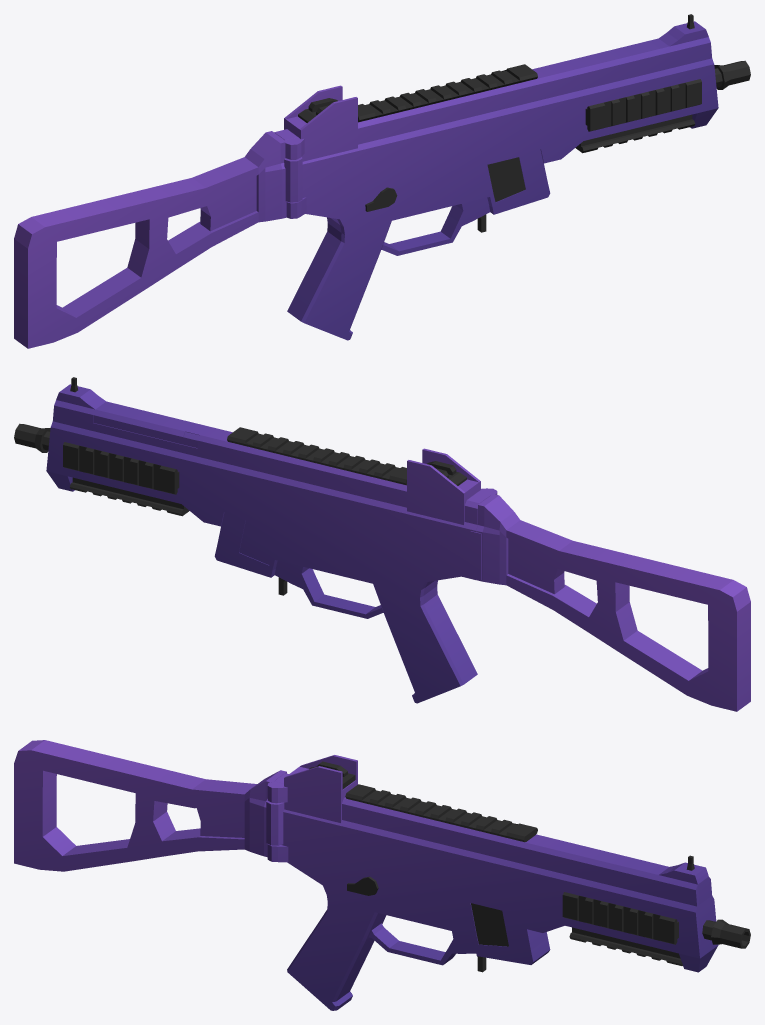
The model's file is SMG6_05.fbx.
The picture shows the model from 3 angles, top to bottom: view 1: azimuth 30°, elevation 25°; view 2: azimuth 150°, elevation 25°; view 3: azimuth 330°, elevation 25°; orthographic projection.
Parts seen in each view (by area): view 1: SMG6_05; view 2: SMG6_05; view 3: SMG6_05.
Boxes of the visible parts, x1=… form: SMG6_05: x1=14, y1=14, x2=750, y2=348; SMG6_05: x1=14, y1=377, x2=750, y2=711; SMG6_05: x1=14, y1=740, x2=750, y2=1010.
Bounding box in the file's own units: 0.7193 × 0.2278 × 0.0477.
